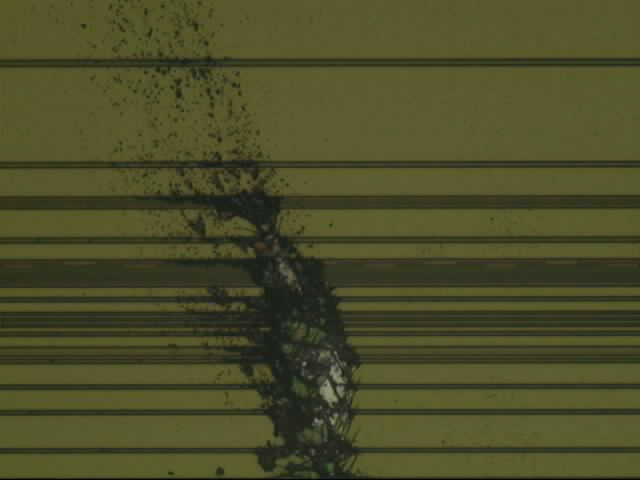SCRATCH: (36, 1, 375, 480)
